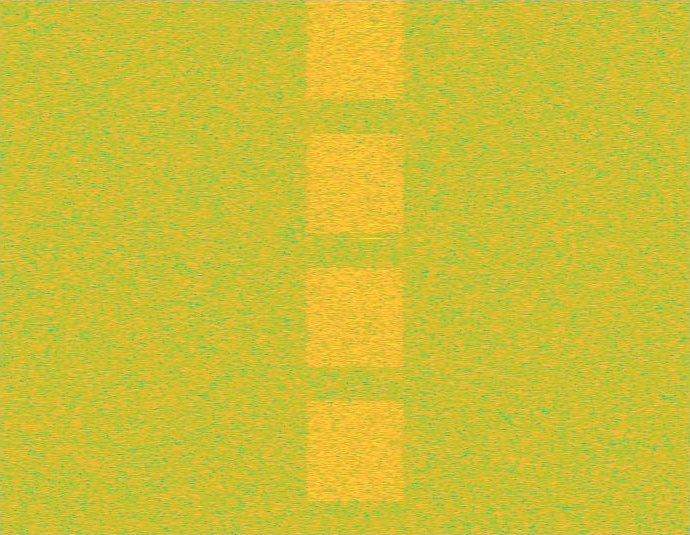5G: (303, 0, 407, 534)
Radar: (365, 0, 378, 534)
